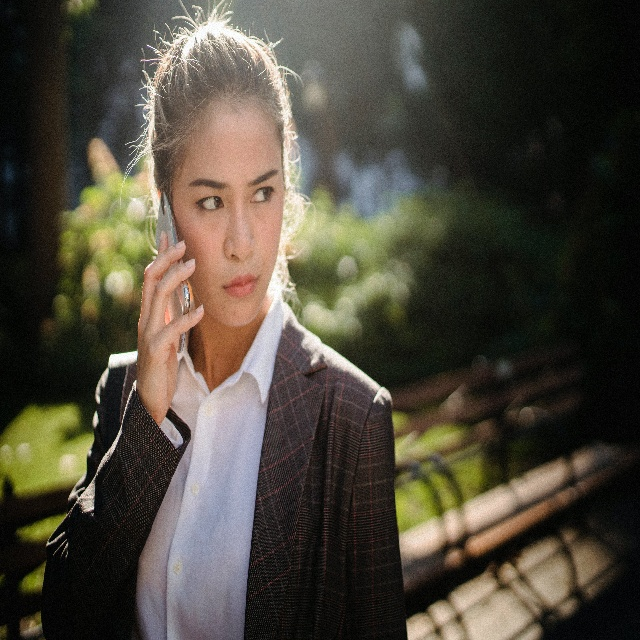Sin_guantes: (130, 226, 204, 425)
